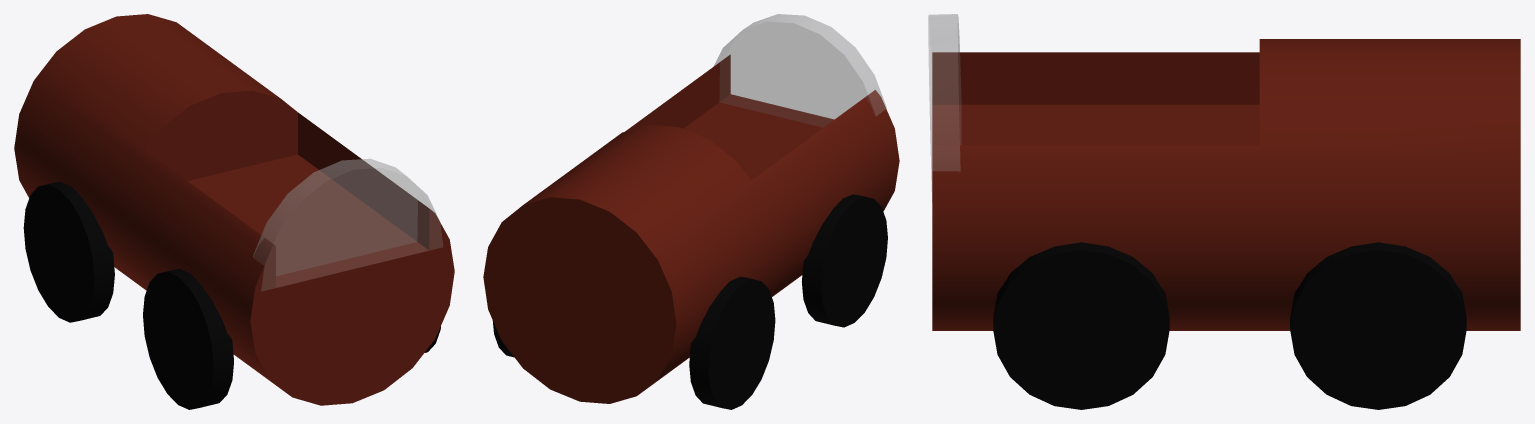
File: Car.dae
3 views of the same model, side by side, from view 1: azimuth 30°, elevation 25°; view 2: azimuth 150°, elevation 25°; view 3: azimuth 270°, elevation 25° (orthographic). The views are drawn at different scales.
Parts seen in each view (by area): view 1: pCylinder6, pCylinder7, pCylinder4, pCylinder5; view 2: pCylinder6, pCylinder7, pCylinder4, pCylinder5; view 3: pCylinder6, pCylinder3, pCylinder2, pCylinder7.
Boxes of the visible parts, <box> form: pCylinder6: <box>14,14,454,405</box>; pCylinder7: <box>253,158,442,291</box>; pCylinder4: <box>23,181,114,322</box>; pCylinder5: <box>143,269,233,409</box>; pCylinder6: <box>483,54,899,403</box>; pCylinder7: <box>714,14,886,127</box>; pCylinder4: <box>689,276,775,409</box>; pCylinder5: <box>802,194,887,327</box>; pCylinder6: <box>932,39,1520,330</box>; pCylinder3: <box>1290,242,1466,409</box>; pCylinder2: <box>993,242,1169,409</box>; pCylinder7: <box>928,14,961,202</box>.
Size of the model in its own units: 2.24 by 2.37 by 4.03.
